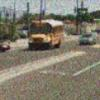buses: (28, 19, 63, 50)
